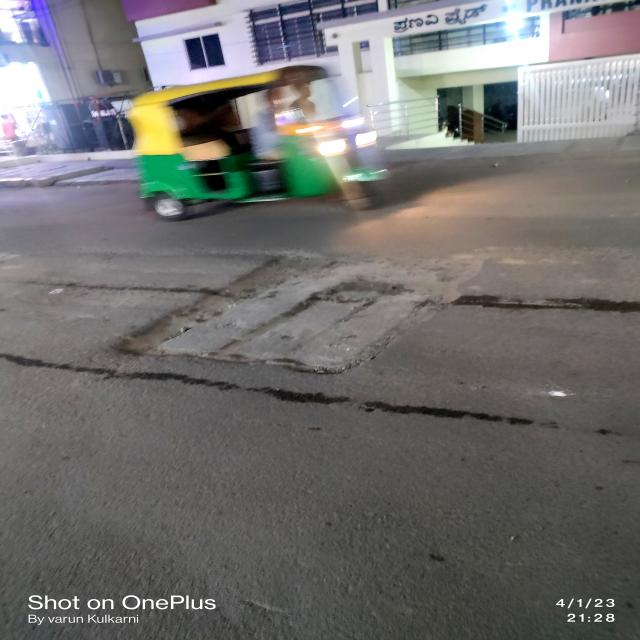manhole: (132, 255, 490, 369)
